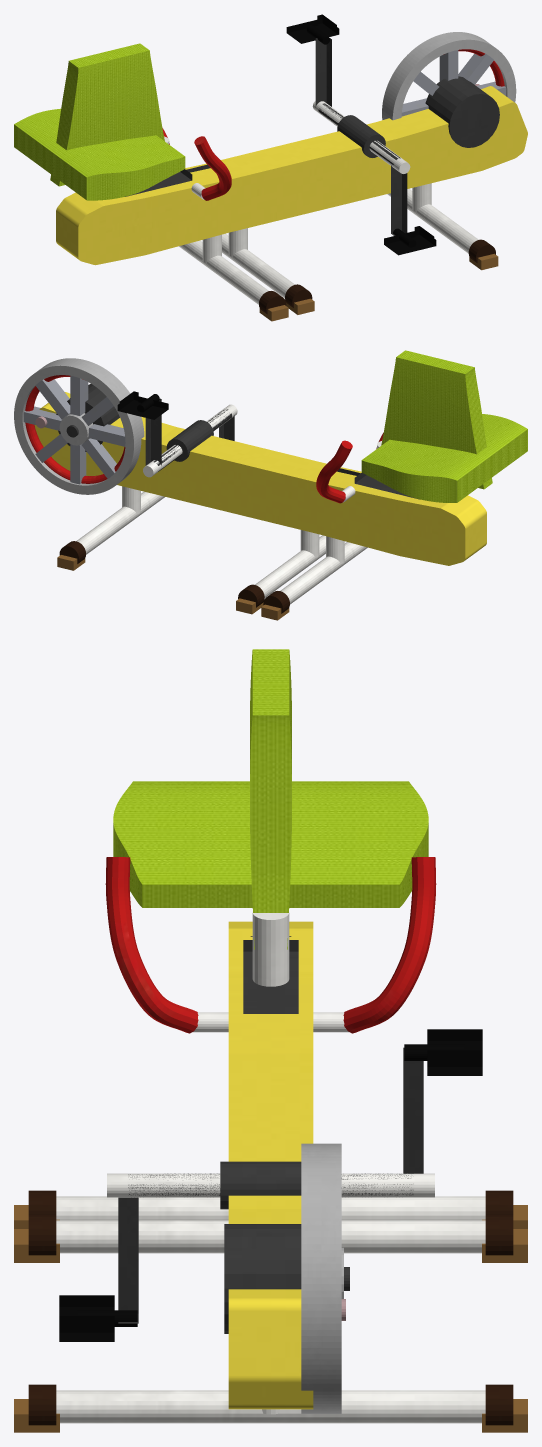
File: Sports_Exercise_bike__0026.glb
The picture shows the model from 3 angles, top to bottom: view 1: azimuth 30°, elevation 25°; view 2: azimuth 150°, elevation 25°; view 3: azimuth 270°, elevation 25°; orthographic projection. The views are drawn at different scales.
Visible parts, largest first — view 1: body::body_beam, seat_carriage::backrest_pad, seat_carriage::bucket_seat, flywheel::flywheel_rim, body::flywheel_housing, crank::crank_body, stabilizer_foot_2::stabilizer_tube, stabilizer_foot_1::stabilizer_tube, stabilizer_foot_0::stabilizer_tube, side_grip_1::grip_bar_1, left_pedal::pedal_tread, right_pedal::pedal_tread (+11 smaller); view 2: body::body_beam, seat_carriage::backrest_pad, seat_carriage::bucket_seat, flywheel::flywheel_rim, crank::crank_body, stabilizer_foot_0::stabilizer_tube, stabilizer_foot_2::stabilizer_tube, stabilizer_foot_1::stabilizer_tube, flywheel::flywheel_red_ring, side_grip_0::grip_bar_0, left_pedal::pedal_tread, body::crank_boss (+18 smaller); view 3: seat_carriage::bucket_seat, body::body_beam, stabilizer_foot_0::stabilizer_tube, flywheel::flywheel_rim, seat_carriage::backrest_pad, stabilizer_foot_1::stabilizer_tube, stabilizer_foot_2::stabilizer_tube, crank::crank_body, body::flywheel_housing, body::crank_spindle, side_grip_0::grip_bar_0, side_grip_1::grip_bar_1 (+9 smaller).
Part boxes in pixels (bbox=[...]): body::body_beam: bbox=[56, 86, 527, 265]; seat_carriage::backrest_pad: bbox=[50, 43, 164, 186]; seat_carriage::bucket_seat: bbox=[14, 108, 185, 200]; flywheel::flywheel_rim: bbox=[382, 32, 516, 120]; body::flywheel_housing: bbox=[425, 76, 499, 147]; crank::crank_body: bbox=[315, 38, 407, 235]; stabilizer_foot_2::stabilizer_tube: bbox=[179, 240, 268, 304]; stabilizer_foot_1::stabilizer_tube: bbox=[222, 233, 294, 298]; stabilizer_foot_0::stabilizer_tube: bbox=[387, 189, 478, 253]; side_grip_1::grip_bar_1: bbox=[194, 136, 231, 200]; left_pedal::pedal_tread: bbox=[286, 14, 339, 44]; right_pedal::pedal_tread: bbox=[384, 226, 436, 255]; body::body_beam: bbox=[34, 392, 486, 565]; seat_carriage::backrest_pad: bbox=[381, 350, 492, 489]; seat_carriage::bucket_seat: bbox=[361, 414, 527, 502]; flywheel::flywheel_rim: bbox=[14, 358, 144, 494]; crank::crank_body: bbox=[145, 398, 234, 471]; stabilizer_foot_0::stabilizer_tube: bbox=[76, 491, 164, 554]; stabilizer_foot_2::stabilizer_tube: bbox=[280, 542, 367, 604]; stabilizer_foot_1::stabilizer_tube: bbox=[255, 535, 325, 597]; flywheel::flywheel_red_ring: bbox=[25, 375, 125, 483]; side_grip_0::grip_bar_0: bbox=[316, 440, 352, 503]; left_pedal::pedal_tread: bbox=[117, 391, 168, 419]; body::crank_boss: bbox=[166, 420, 213, 461]; seat_carriage::bucket_seat: bbox=[113, 781, 428, 907]; body::body_beam: bbox=[228, 921, 313, 1409]; stabilizer_foot_0::stabilizer_tube: bbox=[56, 1390, 485, 1423]; flywheel::flywheel_rim: bbox=[301, 1143, 341, 1413]; seat_carriage::backrest_pad: bbox=[250, 649, 291, 949]; stabilizer_foot_1::stabilizer_tube: bbox=[56, 1220, 485, 1253]; stabilizer_foot_2::stabilizer_tube: bbox=[56, 1196, 485, 1220]; crank::crank_body: bbox=[118, 1047, 423, 1323]; body::flywheel_housing: bbox=[224, 1224, 301, 1333]; body::crank_spindle: bbox=[107, 1173, 434, 1197]; side_grip_0::grip_bar_0: bbox=[343, 857, 436, 1033]; side_grip_1::grip_bar_1: bbox=[105, 857, 198, 1033].
Bounding box in the file's own units: 1.13 × 0.546 × 0.5588.
Materials: 11 (10 with a texture image).
